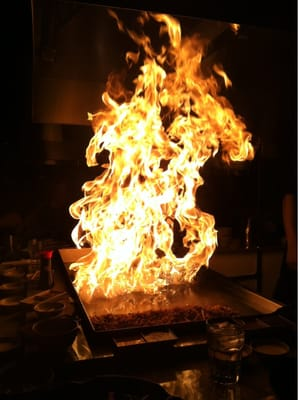pizza: (206, 316, 246, 386)
